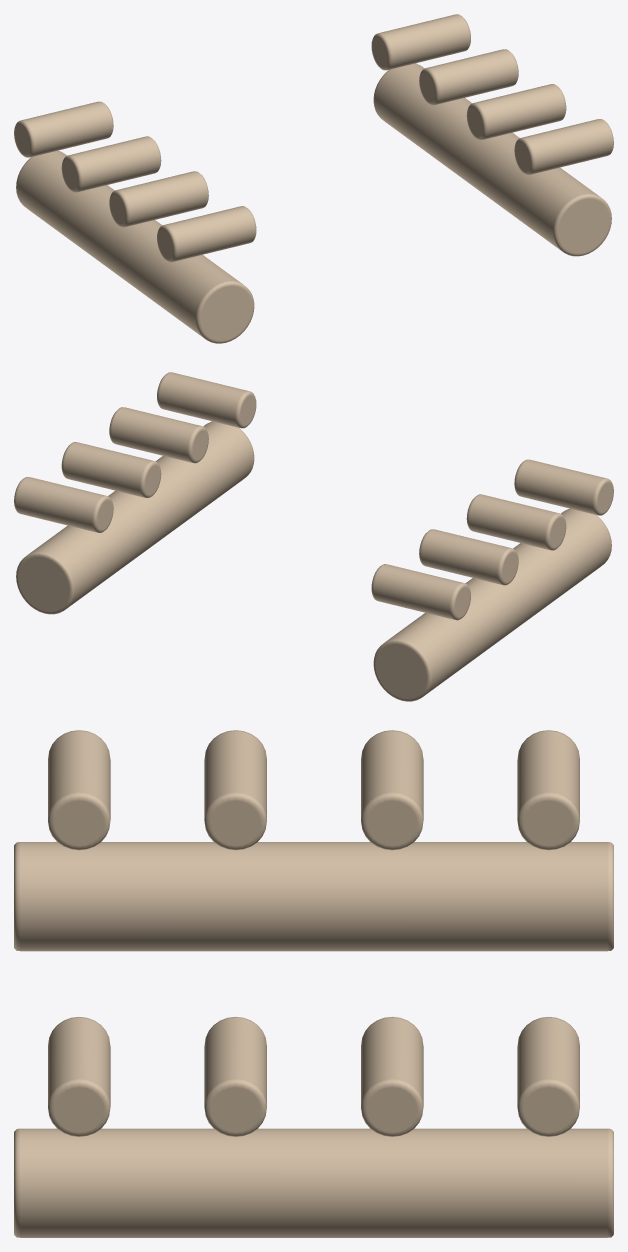
File: exhaust_headers.glb
The picture shows the model from 3 angles, top to bottom: view 1: azimuth 30°, elevation 25°; view 2: azimuth 150°, elevation 25°; view 3: azimuth 270°, elevation 25°; orthographic projection. The views are drawn at different scales.
Visible parts, largest first — view 1: EXHAUST_COLLECTOR_R, EXHAUST_COLLECTOR_L, EXHAUST_RUNNER_L_1, EXHAUST_RUNNER_L_3, EXHAUST_RUNNER_L_2, EXHAUST_RUNNER_L_0, EXHAUST_RUNNER_R_3, EXHAUST_RUNNER_R_0, EXHAUST_RUNNER_R_1, EXHAUST_RUNNER_R_2; view 2: EXHAUST_COLLECTOR_R, EXHAUST_COLLECTOR_L, EXHAUST_RUNNER_L_2, EXHAUST_RUNNER_L_0, EXHAUST_RUNNER_L_1, EXHAUST_RUNNER_L_3, EXHAUST_RUNNER_R_0, EXHAUST_RUNNER_R_3, EXHAUST_RUNNER_R_2, EXHAUST_RUNNER_R_1; view 3: EXHAUST_COLLECTOR_L, EXHAUST_COLLECTOR_R, EXHAUST_RUNNER_R_1, EXHAUST_RUNNER_R_2, EXHAUST_RUNNER_L_0, EXHAUST_RUNNER_L_3, EXHAUST_RUNNER_L_1, EXHAUST_RUNNER_L_2, EXHAUST_RUNNER_R_0, EXHAUST_RUNNER_R_3.
Part boxes in pixels (bbox=[...]): EXHAUST_COLLECTOR_R: bbox=[373, 63, 611, 256]; EXHAUST_COLLECTOR_L: bbox=[16, 150, 254, 343]; EXHAUST_RUNNER_L_1: bbox=[109, 171, 208, 227]; EXHAUST_RUNNER_L_3: bbox=[14, 101, 113, 157]; EXHAUST_RUNNER_L_2: bbox=[61, 136, 161, 192]; EXHAUST_RUNNER_L_0: bbox=[157, 206, 256, 262]; EXHAUST_RUNNER_R_3: bbox=[371, 14, 470, 70]; EXHAUST_RUNNER_R_0: bbox=[514, 119, 613, 174]; EXHAUST_RUNNER_R_1: bbox=[466, 84, 566, 139]; EXHAUST_RUNNER_R_2: bbox=[419, 49, 518, 105]; EXHAUST_COLLECTOR_R: bbox=[16, 421, 254, 614]; EXHAUST_COLLECTOR_L: bbox=[373, 508, 611, 701]; EXHAUST_RUNNER_L_2: bbox=[419, 529, 518, 585]; EXHAUST_RUNNER_L_0: bbox=[514, 459, 613, 515]; EXHAUST_RUNNER_L_1: bbox=[466, 494, 566, 550]; EXHAUST_RUNNER_L_3: bbox=[371, 564, 470, 620]; EXHAUST_RUNNER_R_0: bbox=[157, 372, 256, 428]; EXHAUST_RUNNER_R_3: bbox=[14, 477, 113, 532]; EXHAUST_RUNNER_R_2: bbox=[61, 442, 161, 497]; EXHAUST_RUNNER_R_1: bbox=[109, 407, 208, 463]; EXHAUST_COLLECTOR_L: bbox=[14, 842, 613, 951]; EXHAUST_COLLECTOR_R: bbox=[14, 1128, 613, 1237]; EXHAUST_RUNNER_R_1: bbox=[204, 1016, 266, 1136]; EXHAUST_RUNNER_R_2: bbox=[361, 1016, 423, 1136]; EXHAUST_RUNNER_L_0: bbox=[48, 730, 110, 850]; EXHAUST_RUNNER_L_3: bbox=[517, 730, 579, 850]; EXHAUST_RUNNER_L_1: bbox=[204, 730, 266, 850]; EXHAUST_RUNNER_L_2: bbox=[361, 730, 423, 850]; EXHAUST_RUNNER_R_0: bbox=[48, 1017, 110, 1136]; EXHAUST_RUNNER_R_3: bbox=[517, 1017, 579, 1136].
Bounding box in the file's own units: 0.64 × 0.156 × 0.46.
